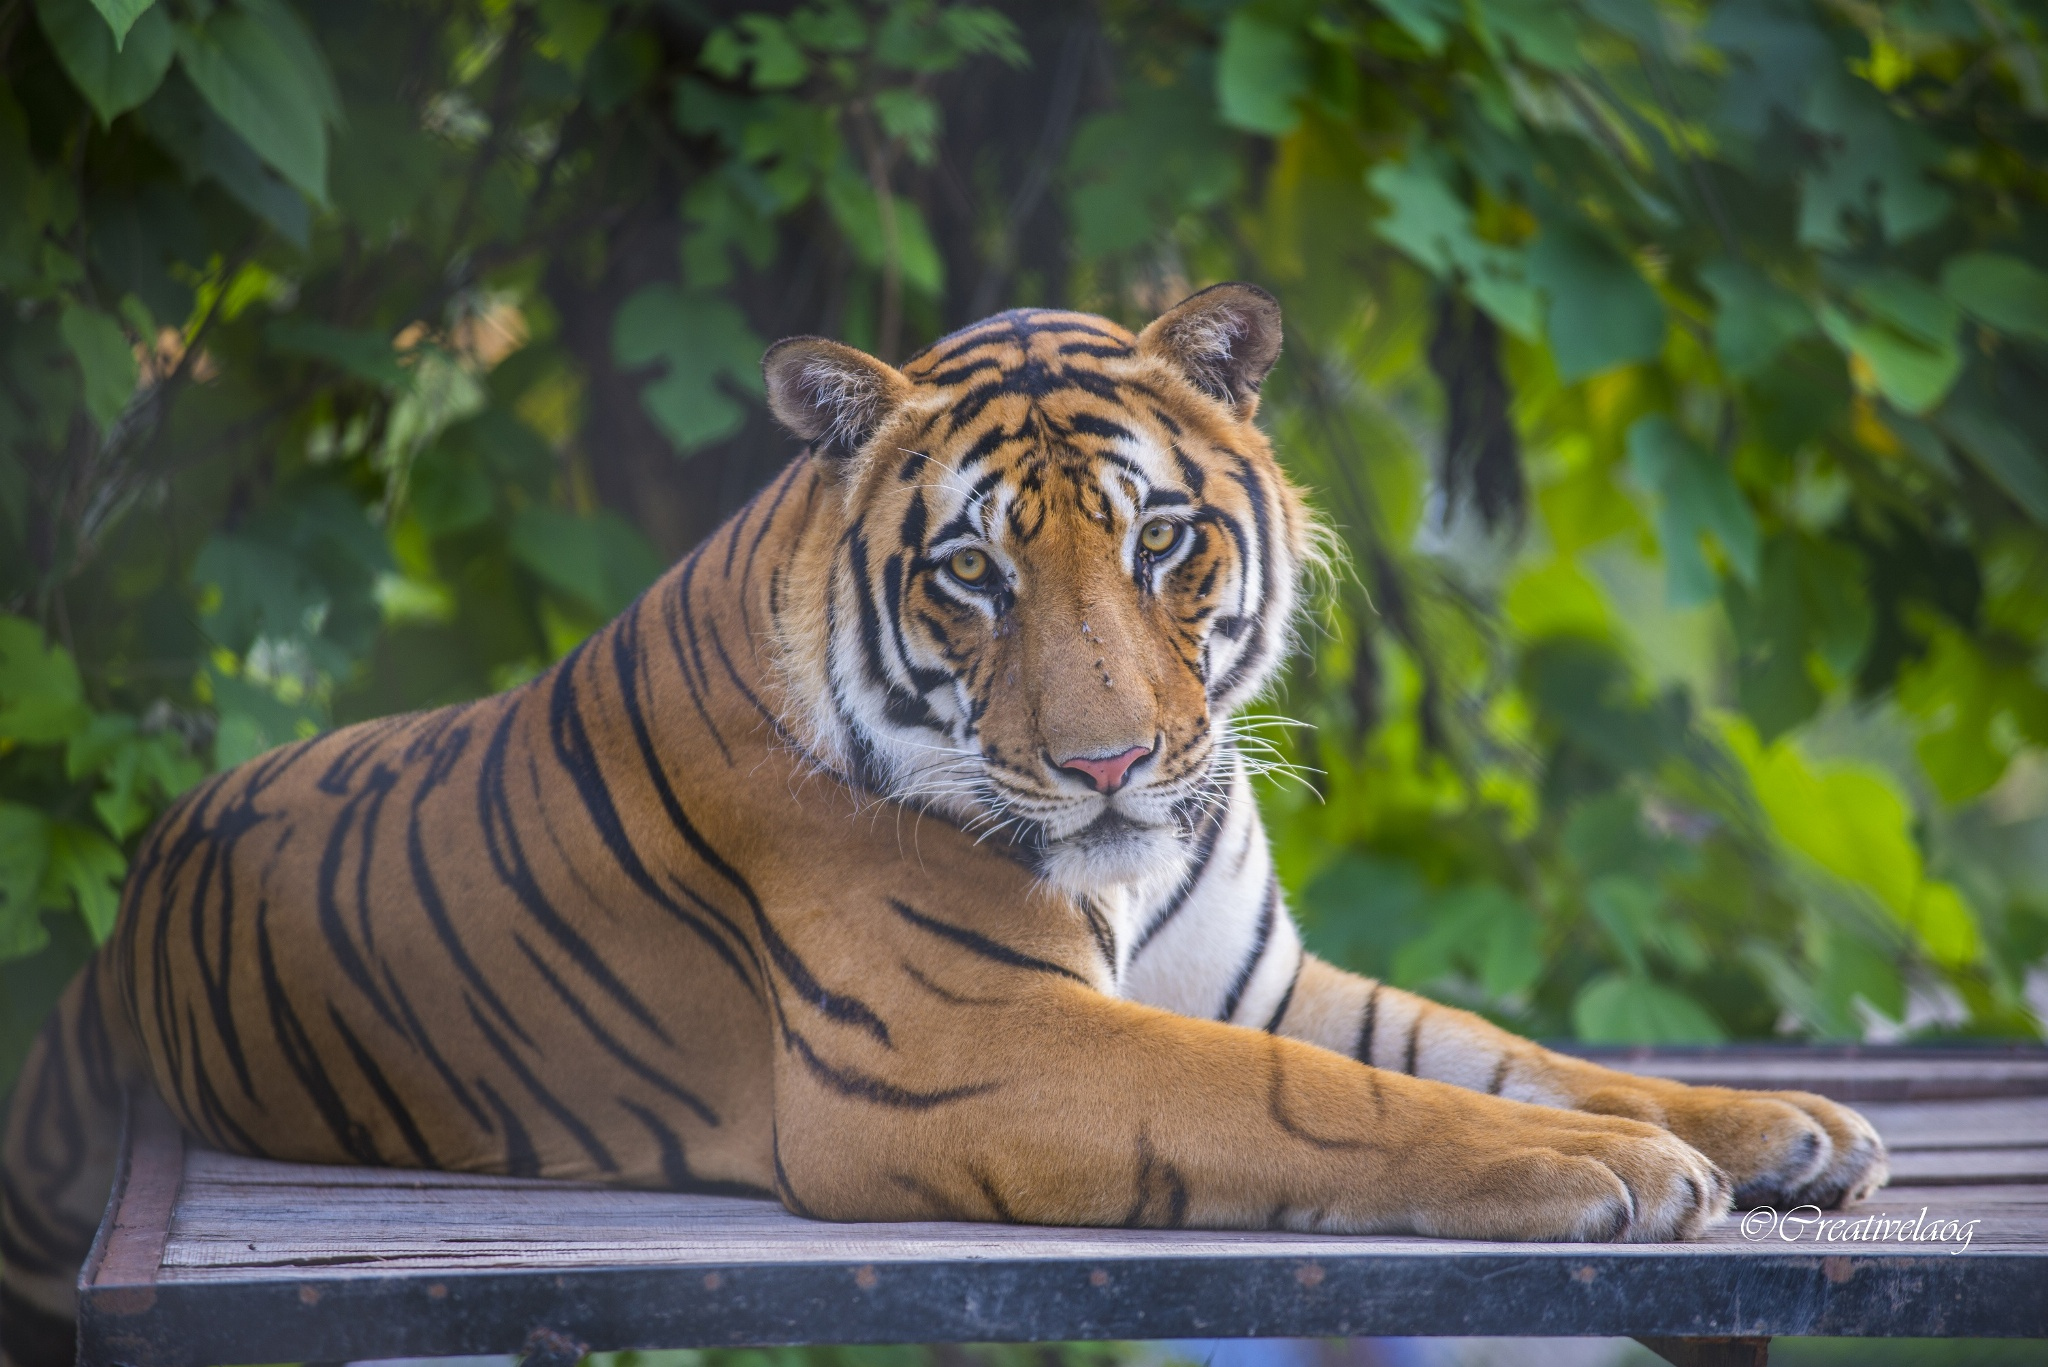tiger: (102, 313, 1873, 1282)
